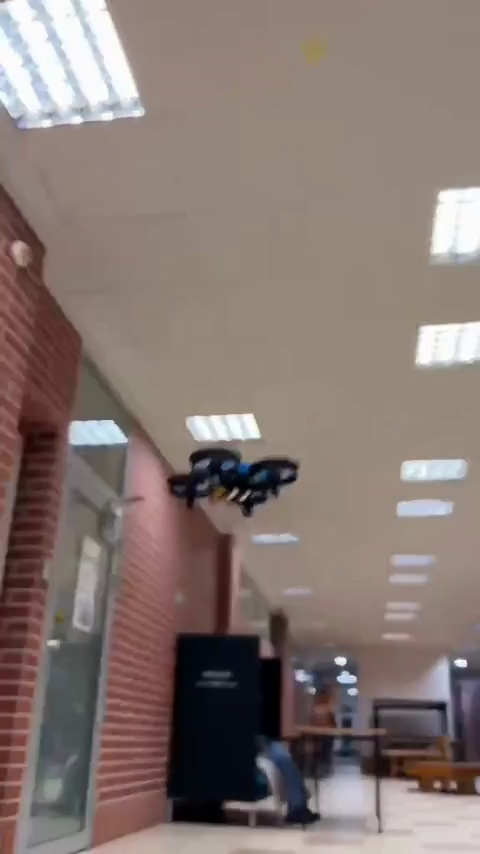drone: (161, 449, 298, 509)
